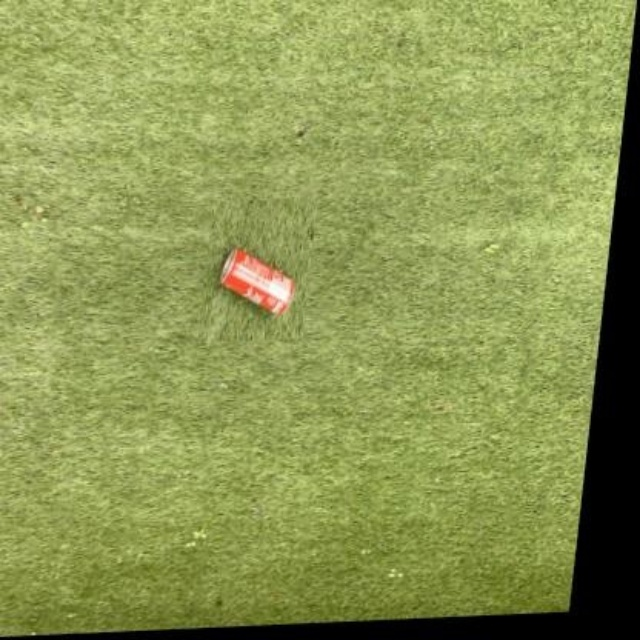trash: (222, 248, 294, 314)
